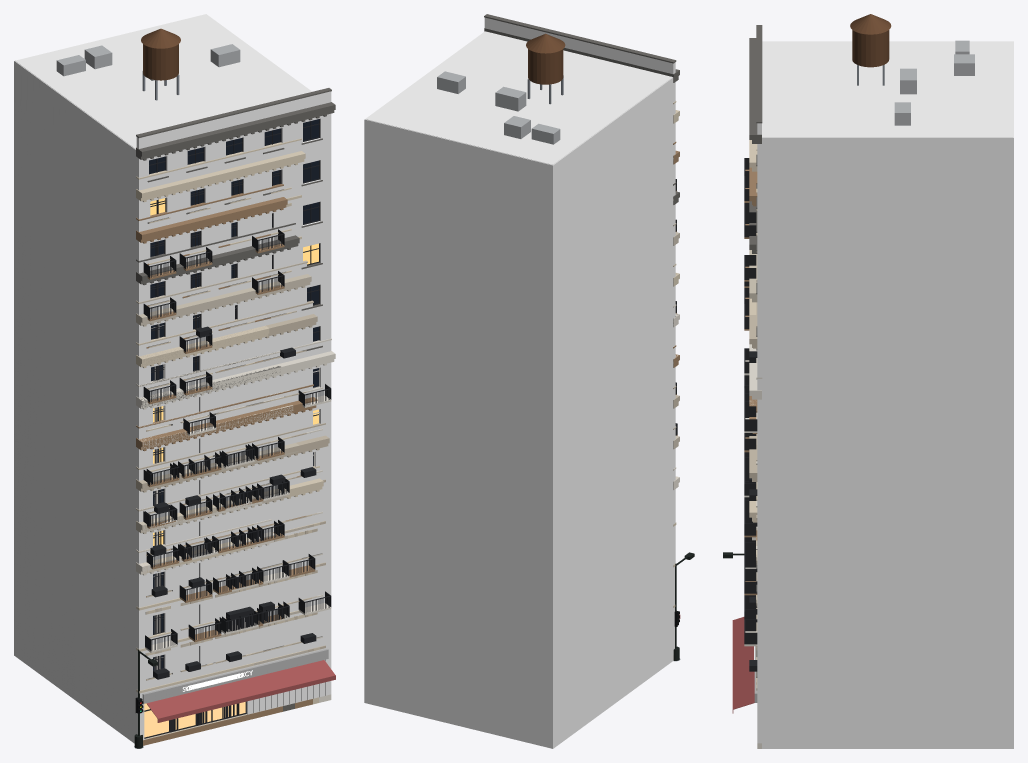
Rendered from city.glb.
The picture shows the model from 3 angles, left to right: view 1: azimuth 30°, elevation 25°; view 2: azimuth 150°, elevation 25°; view 3: azimuth 270°, elevation 25°; orthographic projection. The views are drawn at different scales.
Visible parts, largest first — view 1: B19, B8, B6, B14, B5, B11, B3, B0, B2, B1, B4, B17 (+9 smaller); view 2: B19, B14, B6, B5, B8, B0, B2, B12, B19L, B17, B3, B1; view 3: B6, B19, B19L, B3, B14, B9, B1.
Boxes of the visible parts, left/top/right/bottom form: B19: left=14, top=14, right=335, bottom=742; B8: left=14, top=102, right=305, bottom=703; B6: left=14, top=312, right=335, bottom=734; B14: left=14, top=149, right=287, bottom=745; B5: left=14, top=186, right=299, bottom=721; B11: left=14, top=227, right=311, bottom=739; B3: left=14, top=408, right=329, bottom=742; B0: left=14, top=435, right=286, bottom=737; B2: left=14, top=276, right=269, bottom=737; B1: left=14, top=361, right=317, bottom=731; B4: left=14, top=477, right=275, bottom=719; B17: left=139, top=300, right=317, bottom=724; B19: left=364, top=14, right=679, bottom=743; B14: left=411, top=142, right=679, bottom=747; B6: left=364, top=304, right=679, bottom=747; B5: left=400, top=182, right=679, bottom=748; B8: left=394, top=101, right=679, bottom=740; B0: left=545, top=426, right=680, bottom=748; B2: left=429, top=264, right=679, bottom=748; B12: left=417, top=314, right=679, bottom=747; B19L: left=495, top=33, right=565, bottom=144; B17: left=382, top=264, right=678, bottom=747; B3: left=370, top=386, right=679, bottom=748; B1: left=382, top=345, right=679, bottom=747; B6: left=732, top=344, right=1013, bottom=748; B19: left=749, top=25, right=1013, bottom=677; B19L: left=850, top=14, right=969, bottom=94; B3: left=732, top=436, right=757, bottom=706; B14: left=744, top=158, right=757, bottom=611; B9: left=744, top=400, right=757, bottom=619; B1: left=744, top=388, right=757, bottom=650.
Bounding box in the file's own units: 16.4 × 52.4 × 20.4.
